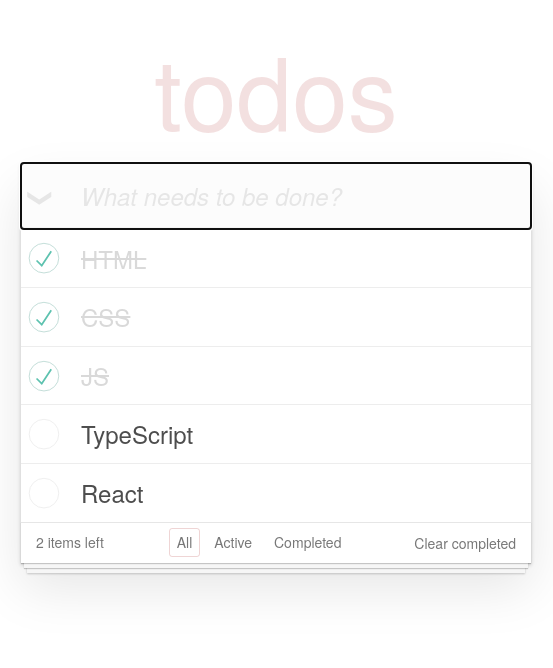
Test: Adding a todo › on success response › should add trimmed title
expect the heading "todos" is shown: met, box [154, 16, 398, 159]
Step 1. Type "  Other Title    " into the field with test id "NewTodoField" → (276, 196), box [21, 163, 531, 229]
Then press Enter
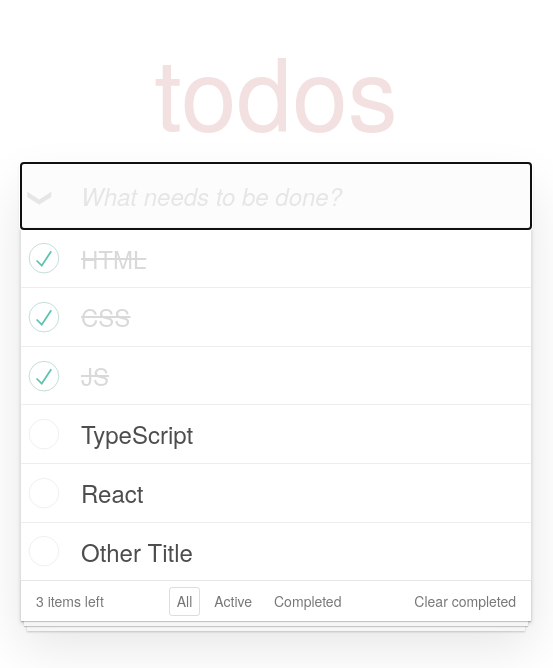
expect the text with test id "TodoTitle" reads "Other Title": met, box [81, 534, 193, 569]
